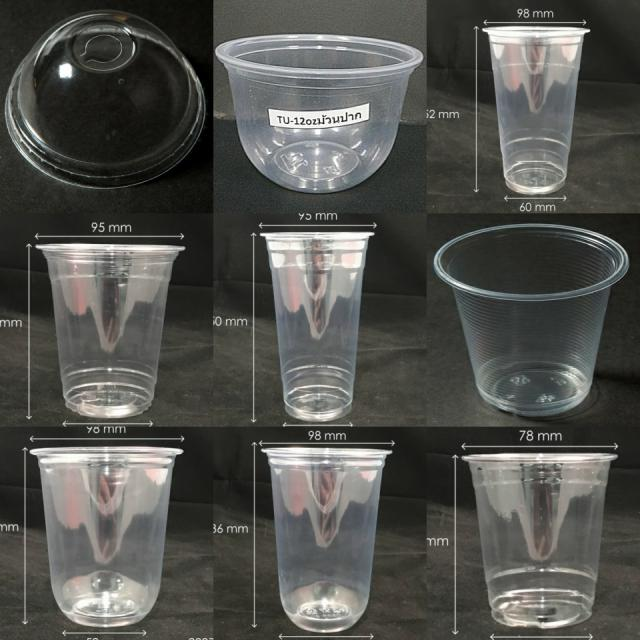Single-Use-Plastic: (434, 225, 629, 416), (6, 10, 204, 188), (215, 35, 422, 193), (31, 448, 181, 628), (462, 454, 616, 628), (38, 245, 182, 418), (264, 449, 389, 632), (262, 233, 372, 421), (482, 26, 589, 194)
